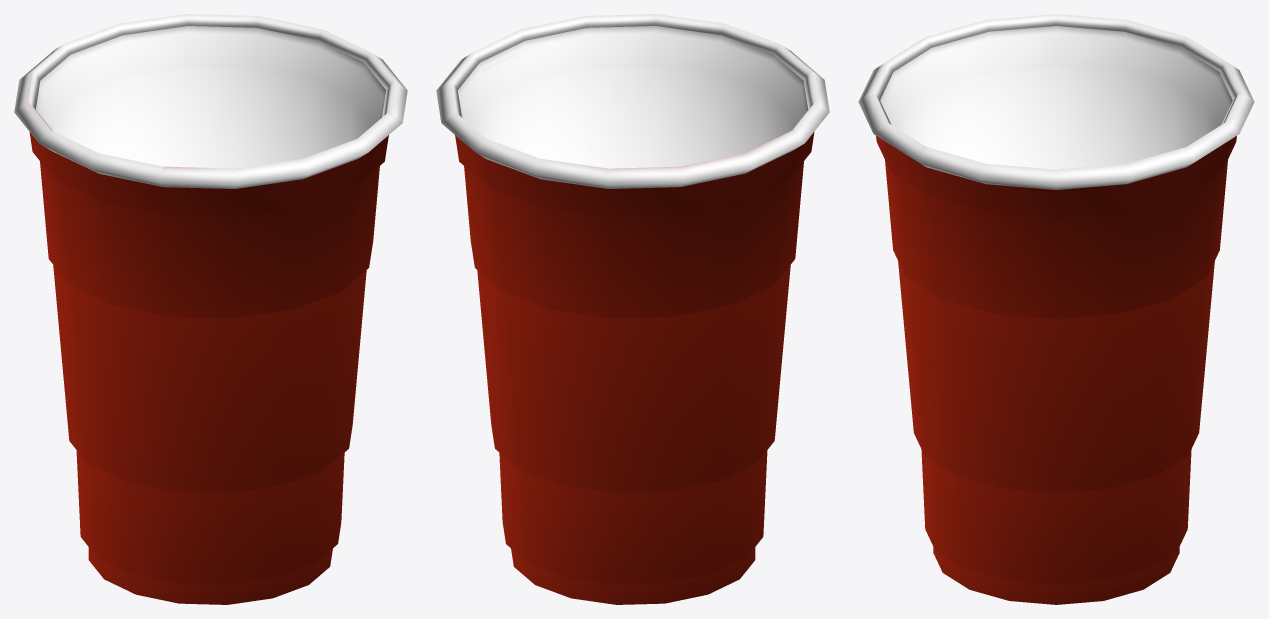
File: solocup.fbx
3 views of the same model, side by side, from view 1: azimuth 30°, elevation 25°; view 2: azimuth 150°, elevation 25°; view 3: azimuth 270°, elevation 25° (orthographic).
Parts seen in each view (by area): view 1: Circle; view 2: Circle; view 3: Circle.
Boxes of the visible parts, left/top/right/bottom form: Circle: left=14, top=14, right=407, bottom=604; Circle: left=436, top=14, right=829, bottom=604; Circle: left=858, top=14, right=1254, bottom=604.
Bounding box in the file's own units: 322 × 413 × 322.
1 material, 1 textured.
